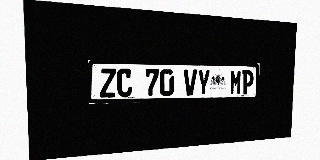0: (159, 69, 174, 96)
7: (144, 69, 159, 97)
C: (117, 69, 132, 97)
M: (230, 70, 242, 95)
P: (242, 70, 254, 94)
V: (183, 69, 197, 96)
Y: (197, 70, 210, 95)
Z: (100, 68, 116, 98)
